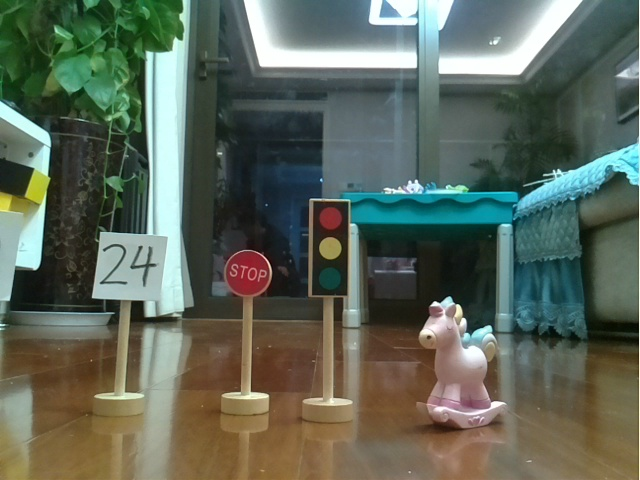Horse: (412, 295, 517, 441)
Red Traffic Light: (302, 195, 359, 428)
Speed Limit 24: (89, 226, 168, 423)
Stop Sign: (216, 242, 280, 420)
